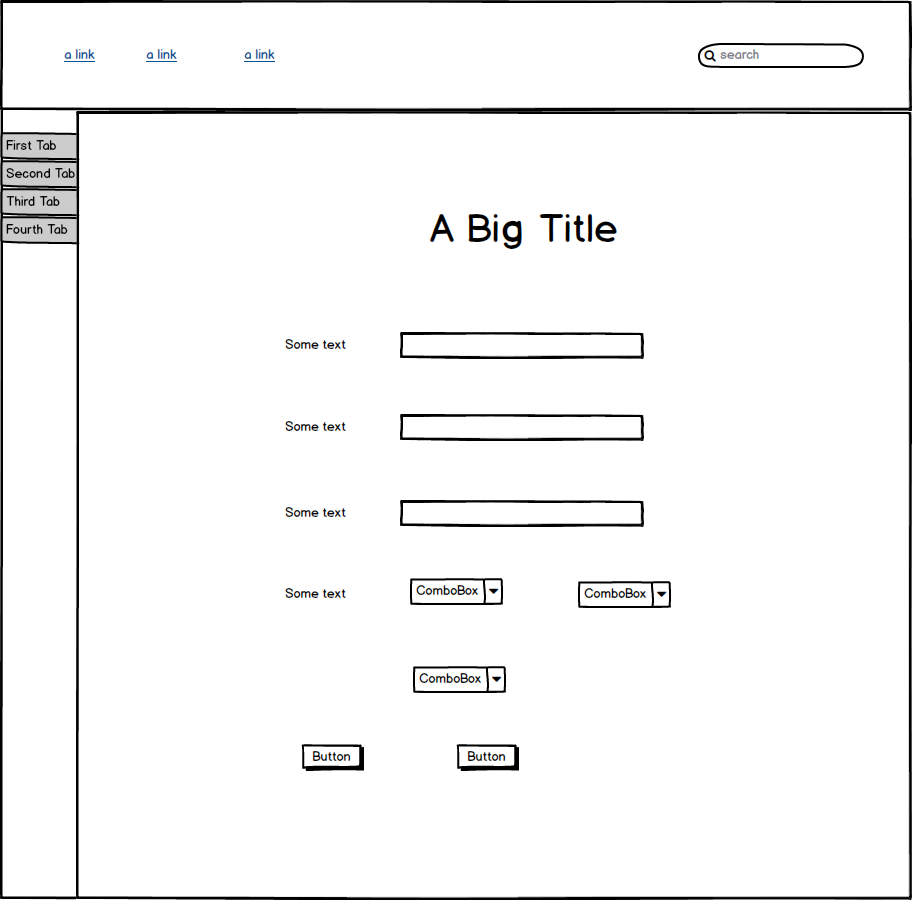button: (451, 736, 526, 774), (298, 737, 369, 777)
h1: (421, 206, 625, 255)
input: (396, 493, 655, 533), (393, 406, 651, 444), (398, 326, 652, 364)
label: (277, 411, 354, 447), (281, 333, 354, 360), (280, 499, 354, 525), (285, 581, 347, 606)
navlink: (137, 40, 193, 70), (55, 41, 104, 69), (236, 40, 282, 69)
search: (689, 32, 871, 74)
select_box: (407, 659, 511, 701), (571, 573, 676, 614), (407, 574, 513, 614)
sidebar: (4, 125, 87, 254)
